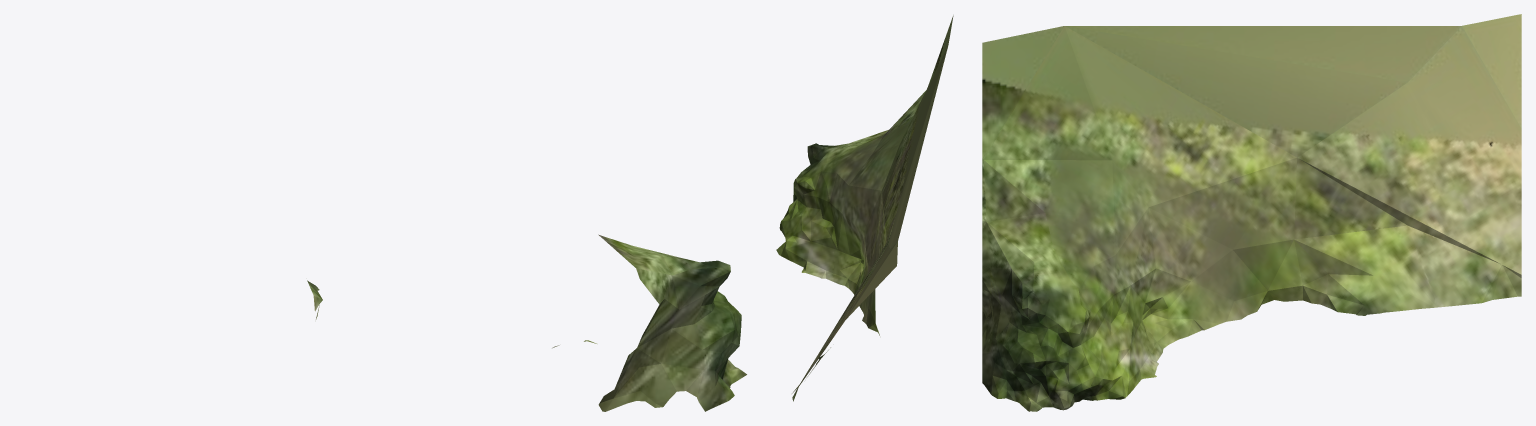
The picture shows the model from 3 angles, left to right: view 1: azimuth 30°, elevation 25°; view 2: azimuth 150°, elevation 25°; view 3: azimuth 270°, elevation 25°; orthographic projection. The views are drawn at different scales.
Size of the model in its own units: 20.97 by 15.18 by 26.11.
2 materials, 2 textured.
